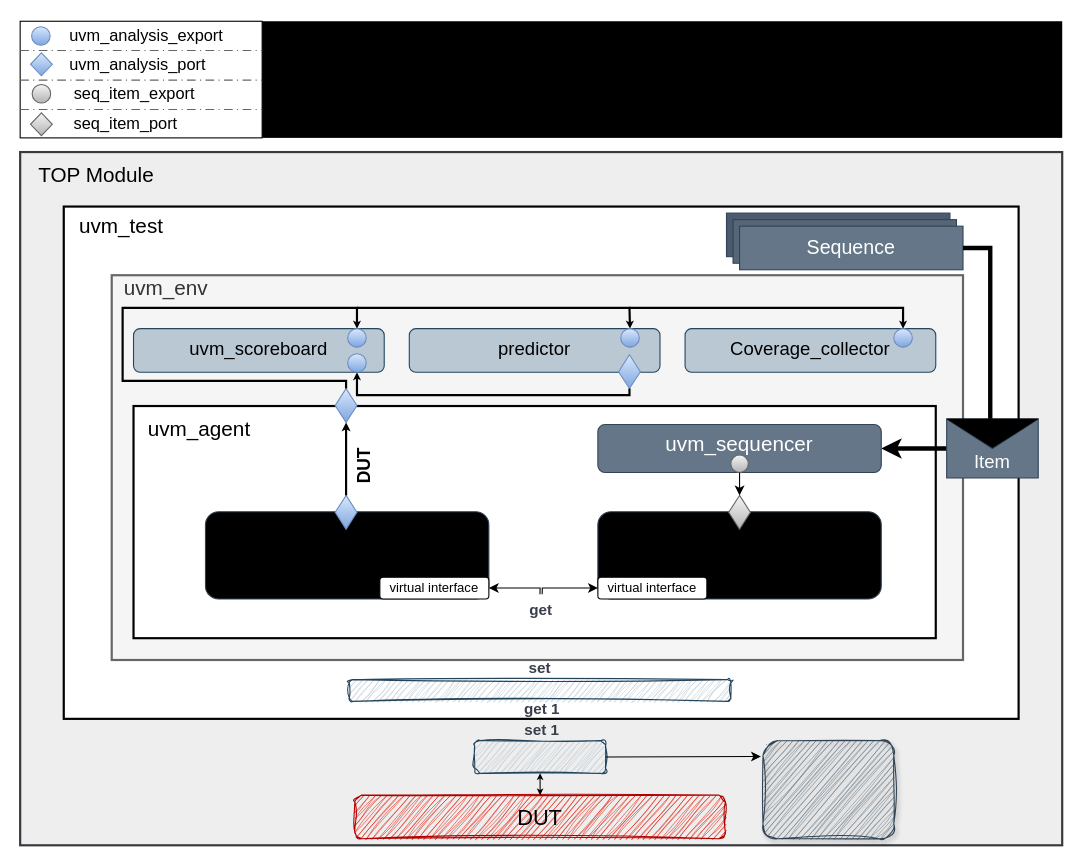
Image size: 1081x865. Some labels were removed from this diagram. The shapes that lost their labels are listed below. From the top down, each one's centre as x and y in pixels, then its label:
At point (539, 690): "CFG".
At point (539, 756): "Interface".
At point (829, 790): "Assertions".
